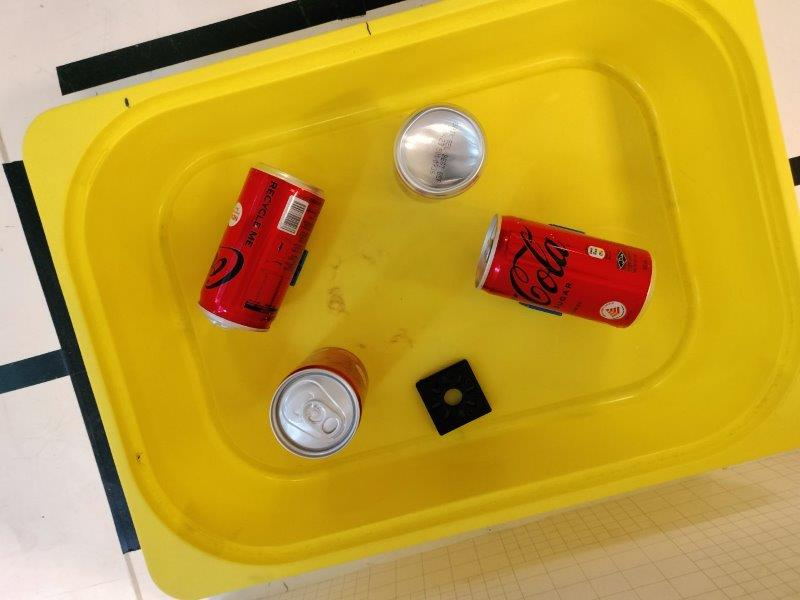Coke: (195, 164, 329, 333), (475, 215, 655, 330), (270, 347, 371, 457), (392, 103, 488, 202)
